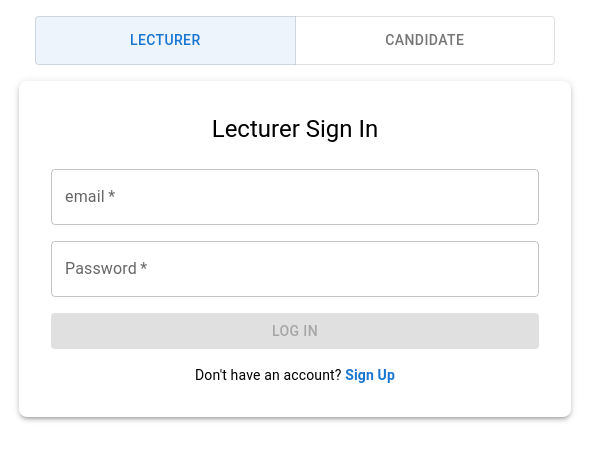
it: LoginPage › displays helper text error when invalid email is entered
Type "invalid-email" into the field labelled "email *" at point(295, 196), box left=51, top=168, right=539, bottom=224
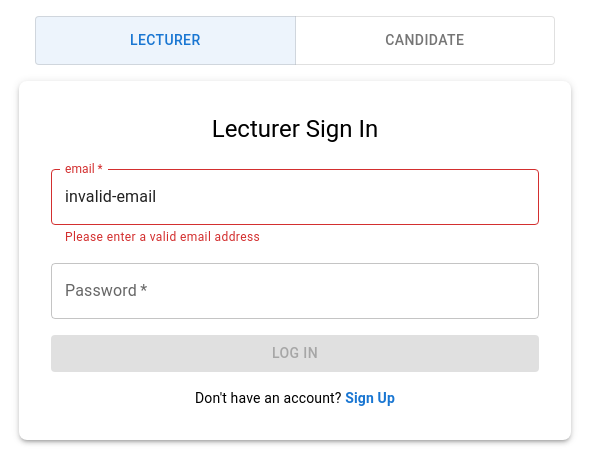
Expected: the text "Please enter a valid email address" is shown, left=65, top=230, right=260, bottom=244
